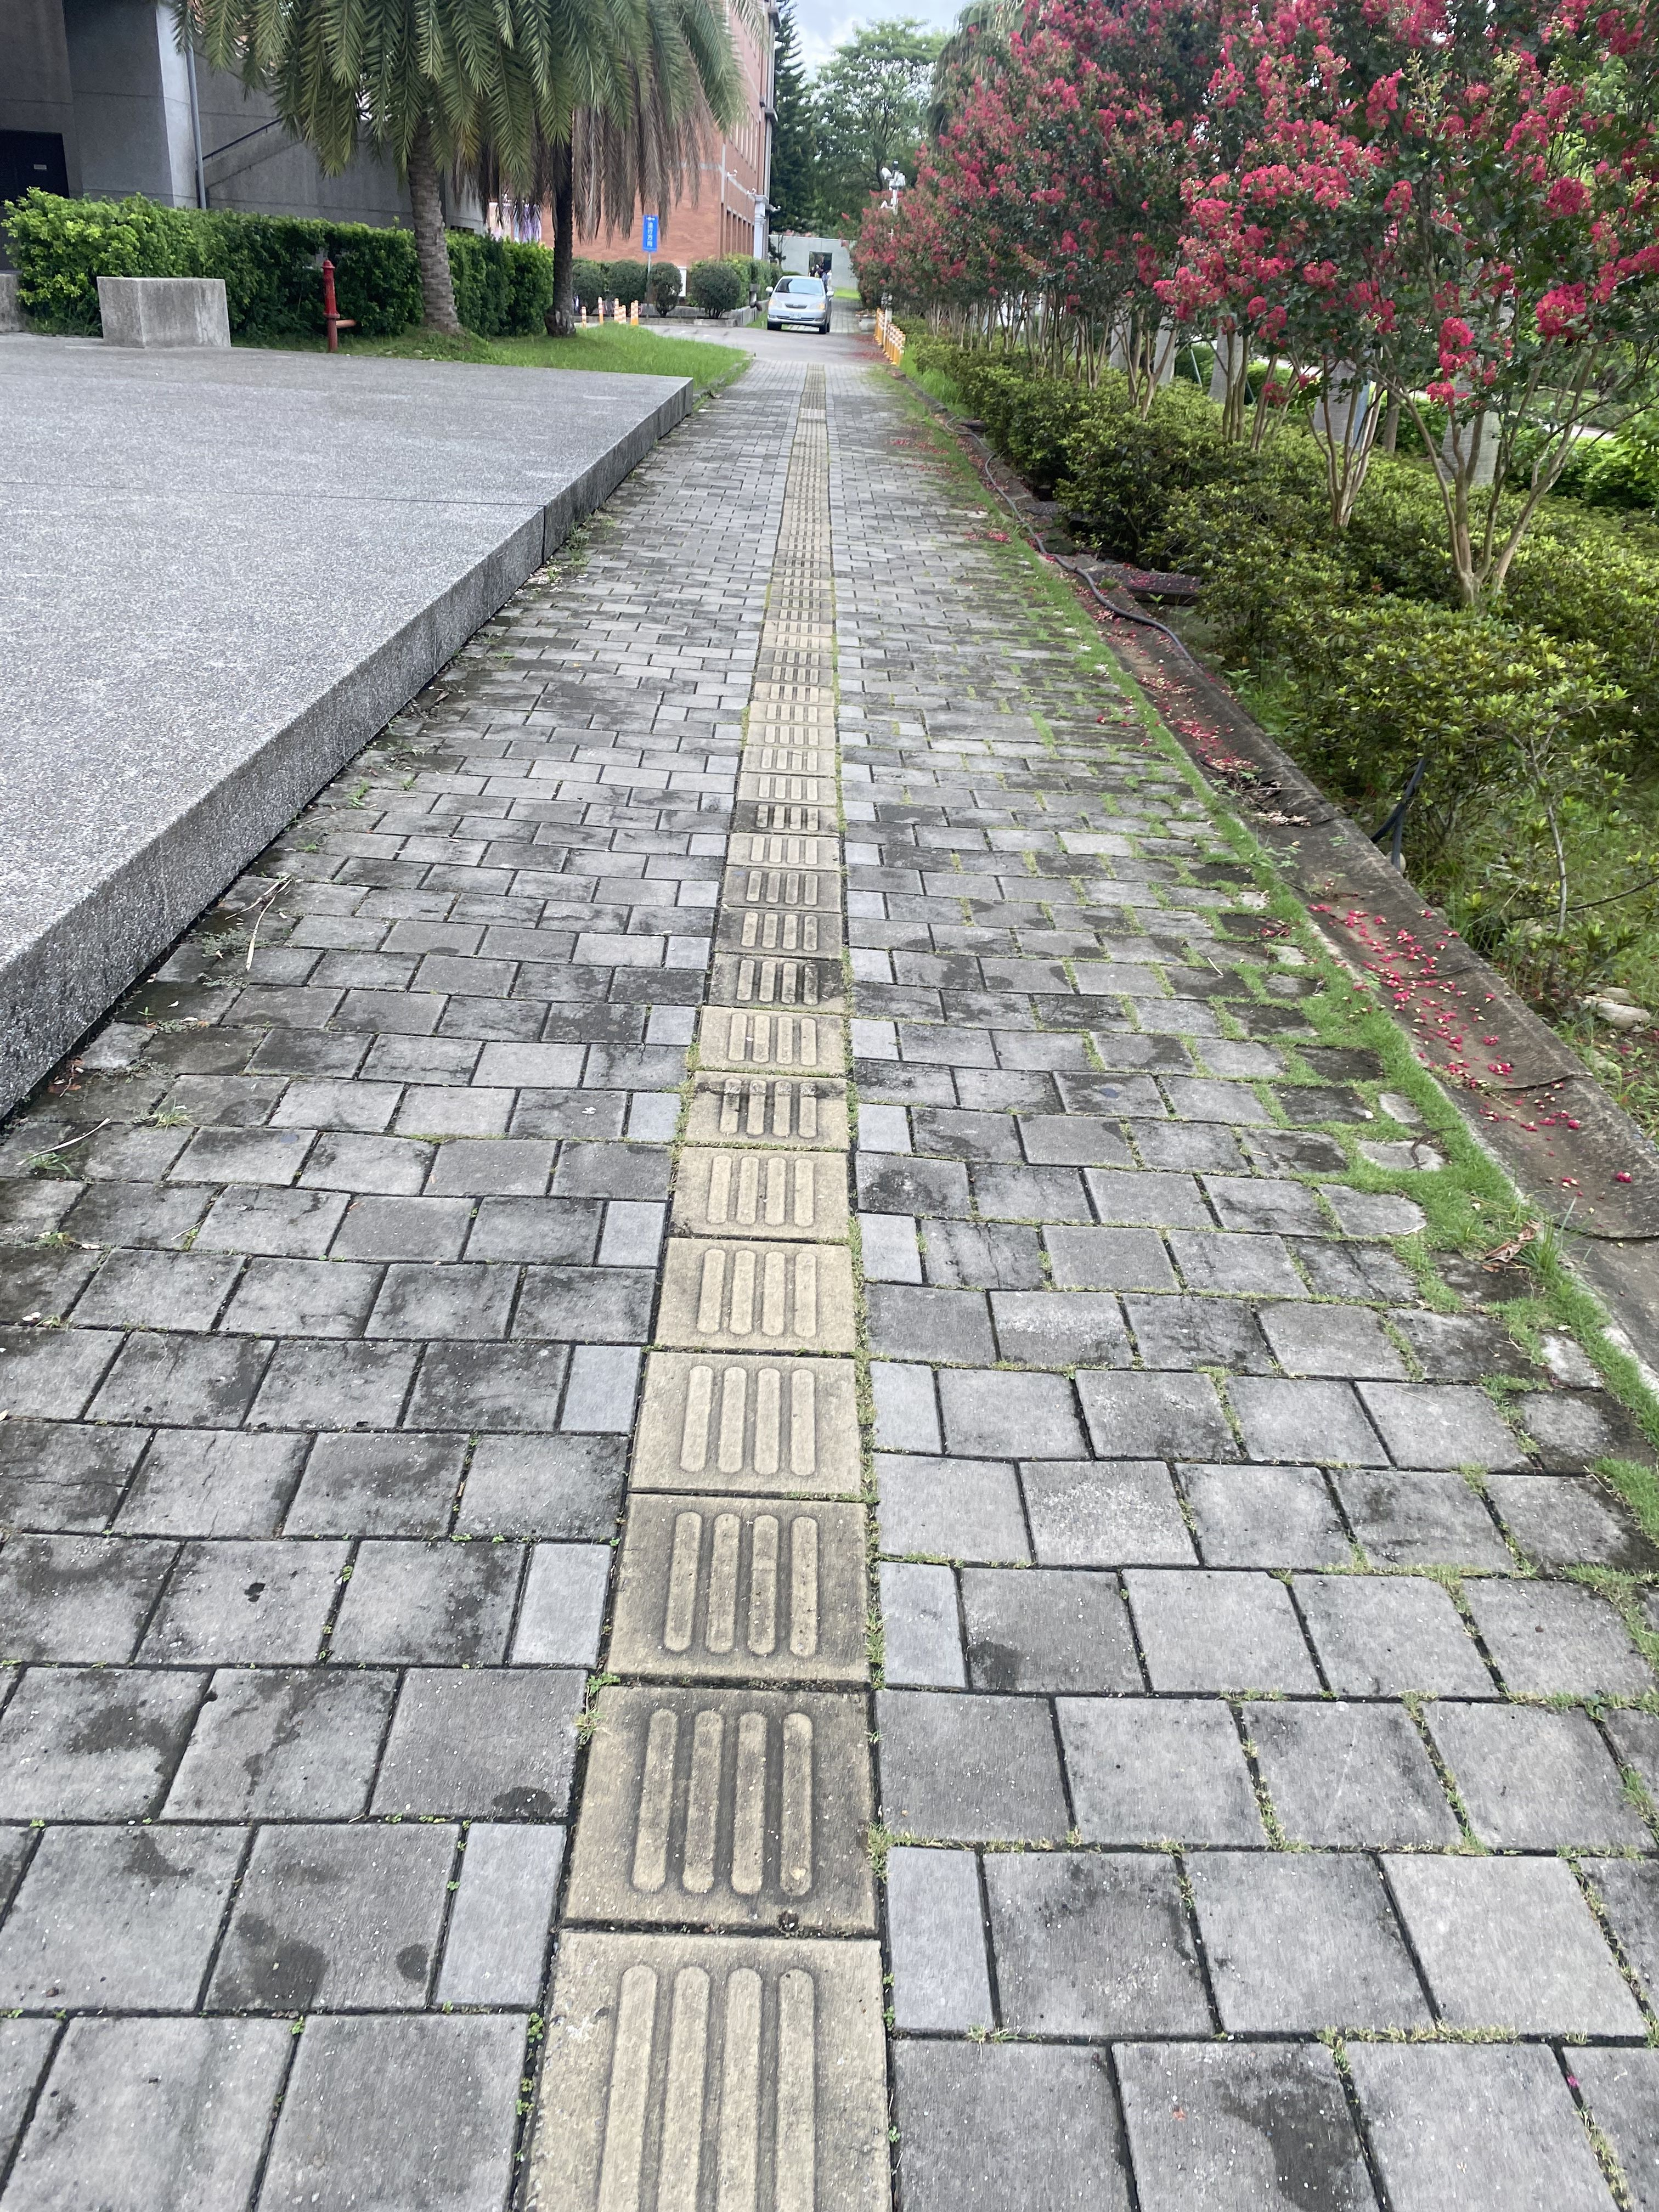0: (10, 577, 1659, 2212)
sidewalk: (544, 366, 1331, 1468)
